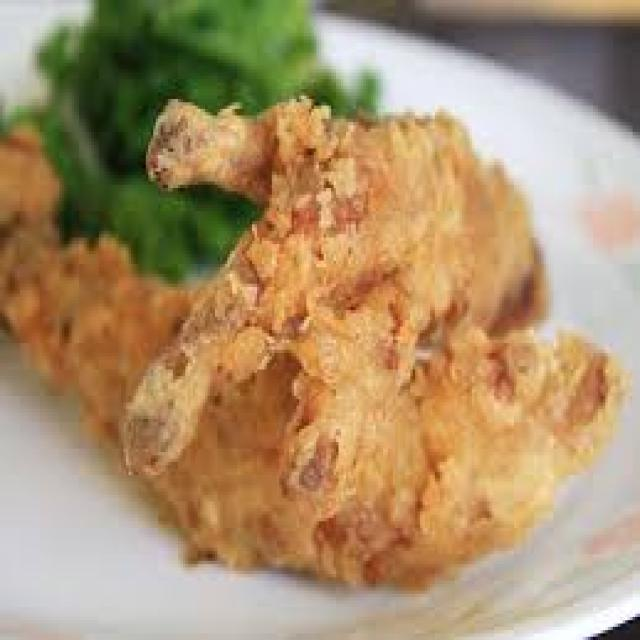Frango: (0, 99, 625, 590)
